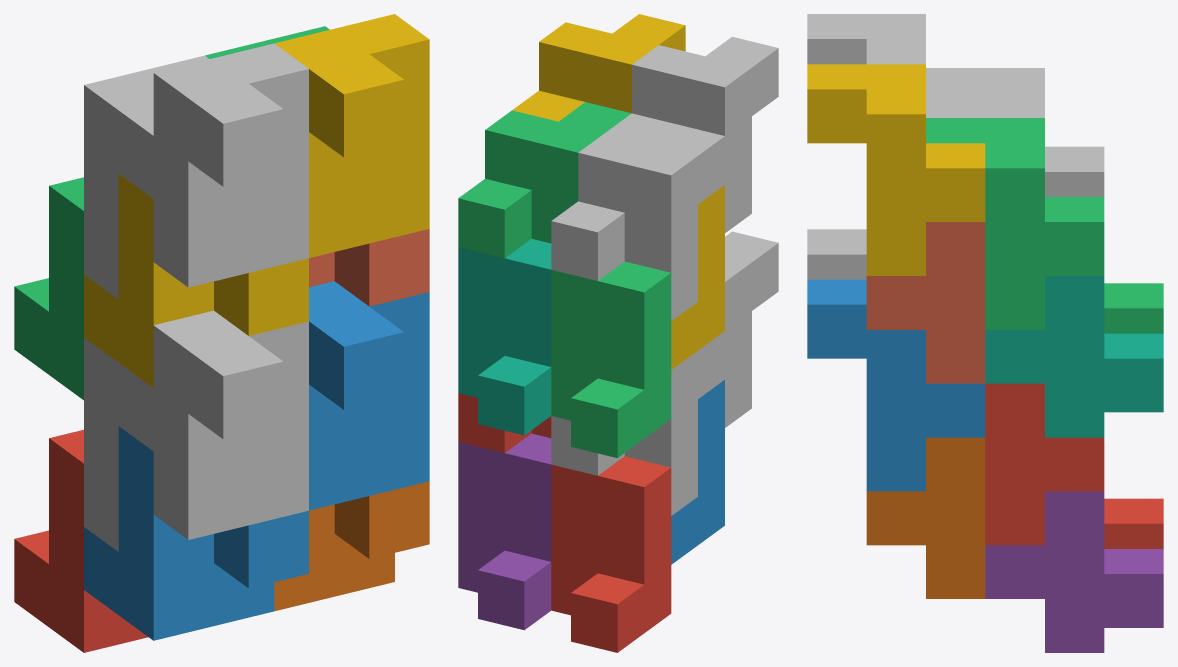
Rendered from tiling.obj.
The picture shows the model from 3 angles, left to right: view 1: azimuth 30°, elevation 25°; view 2: azimuth 150°, elevation 25°; view 3: azimuth 270°, elevation 25°; orthographic projection. The views are drawn at different scales.
Visible parts, largest first — view 1: copy_2_domain_4, copy_2_domain_2, copy_2_domain_8, copy_2_domain_6, copy_1_domain_2, copy_1_domain_4, copy_1_domain_1, copy_2_domain_3, copy_1_domain_6, copy_1_domain_3, copy_2_domain_1, copy_1_domain_8 (+1 smaller); view 2: copy_2_domain_3, copy_1_domain_1, copy_1_domain_3, copy_1_domain_5, copy_1_domain_7, copy_2_domain_4, copy_2_domain_7, copy_2_domain_8, copy_2_domain_1, copy_2_domain_2, copy_1_domain_4, copy_1_domain_2 (+1 smaller); view 3: copy_2_domain_8, copy_2_domain_7, copy_2_domain_6, copy_1_domain_7, copy_1_domain_5, copy_2_domain_5, copy_1_domain_6, copy_1_domain_8, copy_2_domain_4, copy_2_domain_3, copy_1_domain_1, copy_1_domain_3 (+1 smaller).
Part boxes in pixels (x1,y1,x2,y2): copy_2_domain_4: [153, 43, 308, 287]; copy_2_domain_2: [153, 310, 308, 539]; copy_2_domain_8: [274, 14, 429, 257]; copy_2_domain_6: [309, 281, 429, 510]; copy_1_domain_2: [84, 426, 308, 640]; copy_1_domain_4: [84, 174, 308, 387]; copy_1_domain_1: [14, 429, 148, 652]; copy_2_domain_3: [84, 55, 209, 299]; copy_1_domain_6: [274, 481, 429, 611]; copy_1_domain_3: [14, 177, 83, 400]; copy_2_domain_1: [84, 337, 153, 551]; copy_1_domain_8: [309, 229, 429, 306]; copy_2_domain_3: [551, 124, 724, 320]; copy_1_domain_1: [551, 456, 671, 652]; copy_1_domain_3: [551, 261, 671, 457]; copy_1_domain_5: [458, 433, 551, 630]; copy_1_domain_7: [458, 239, 551, 435]; copy_2_domain_4: [605, 36, 778, 232]; copy_2_domain_7: [458, 102, 631, 258]; copy_2_domain_8: [512, 14, 685, 121]; copy_2_domain_1: [551, 331, 724, 515]; copy_2_domain_2: [725, 231, 778, 427]; copy_1_domain_4: [671, 185, 724, 369]; copy_1_domain_2: [671, 380, 724, 564]; copy_2_domain_8: [807, 64, 985, 275]; copy_2_domain_7: [926, 118, 1104, 329]; copy_2_domain_6: [807, 279, 985, 491]; copy_1_domain_7: [985, 276, 1163, 437]; copy_1_domain_5: [985, 491, 1163, 652]; copy_2_domain_5: [985, 383, 1104, 545]; copy_1_domain_6: [866, 437, 985, 598]; copy_1_domain_8: [866, 222, 985, 383]; copy_2_domain_4: [807, 14, 985, 117]; copy_2_domain_3: [926, 68, 1104, 196]; copy_1_domain_1: [1104, 498, 1163, 548]; copy_1_domain_3: [1104, 283, 1163, 333].
Size of the model in its own units: 4 by 10 by 6.
